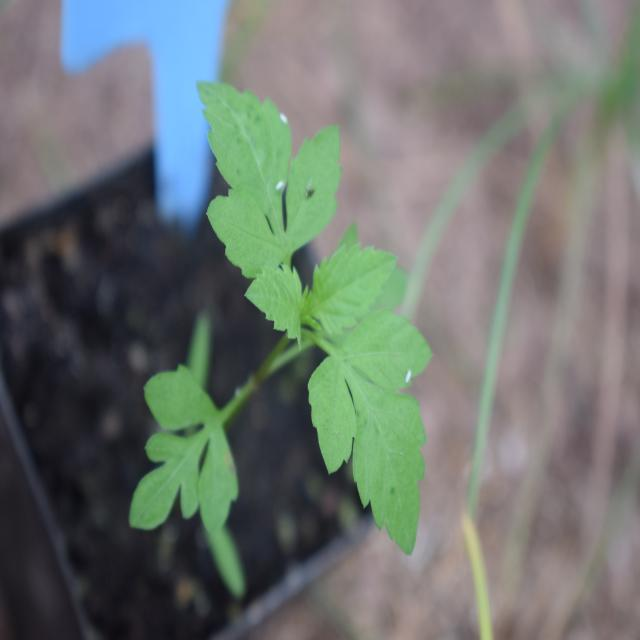Bidens pilosa: (143, 60, 439, 579)
